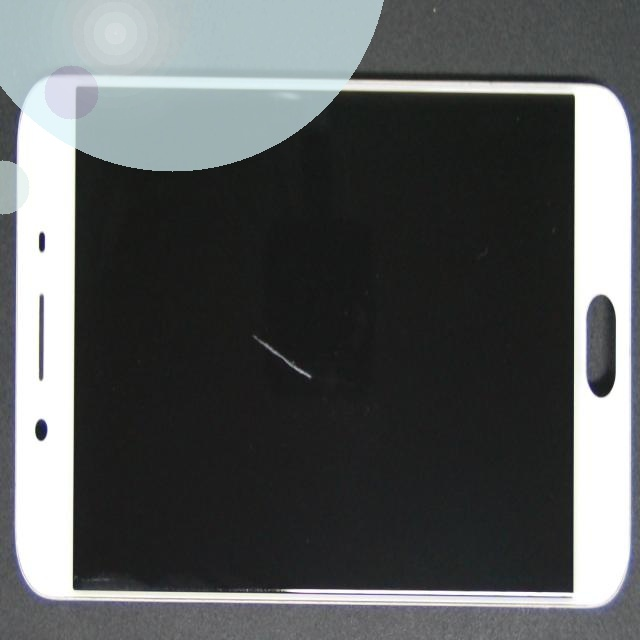scratch: (200, 228, 451, 530)
